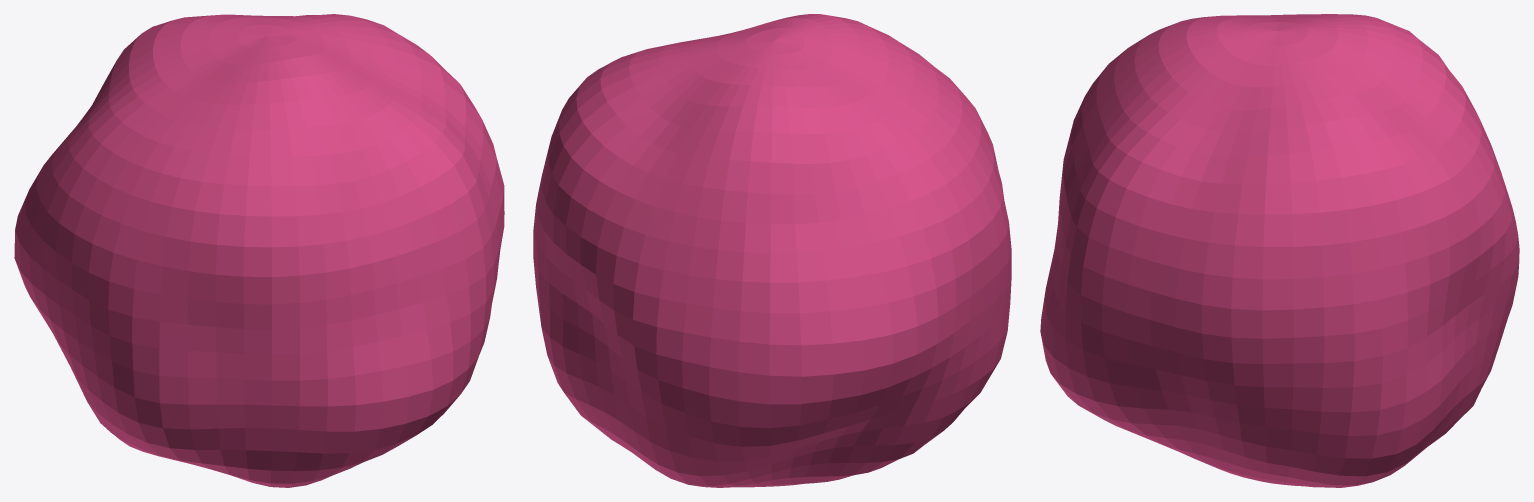
File: nucleo.FBX
3 renders of one model, left to right at view 1: azimuth 30°, elevation 25°; view 2: azimuth 150°, elevation 25°; view 3: azimuth 270°, elevation 25°, orthographic. The views are drawn at different scales.
Parts seen in each view (by area): view 1: Sphere002; view 2: Sphere002; view 3: Sphere002.
Boxes of the visible parts, x1,y1,x2,y2 form: Sphere002: [14, 14, 504, 487]; Sphere002: [533, 14, 1011, 487]; Sphere002: [1040, 14, 1519, 487].
Bounding box in the file's own units: 202 × 200 × 197.
